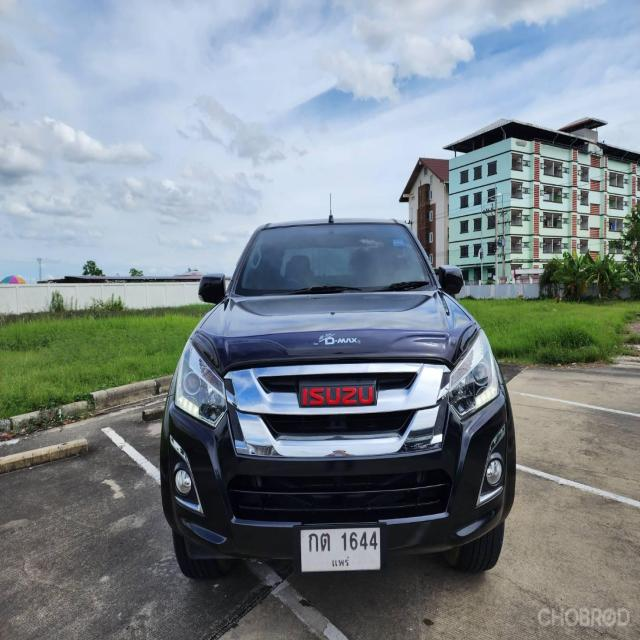license_plate: (296, 521, 384, 578)
